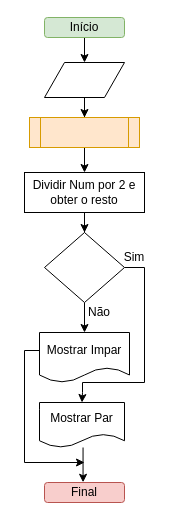
Image size: 172x520. Some labels were removed from this diagram. The shapes that lost their labels are listed below. From the top down, each one's centre as x and y in pixels, then its label:
the point at 84,80: Num
the point at 84,132: string_to_int
the point at 84,267: Resto = 0
